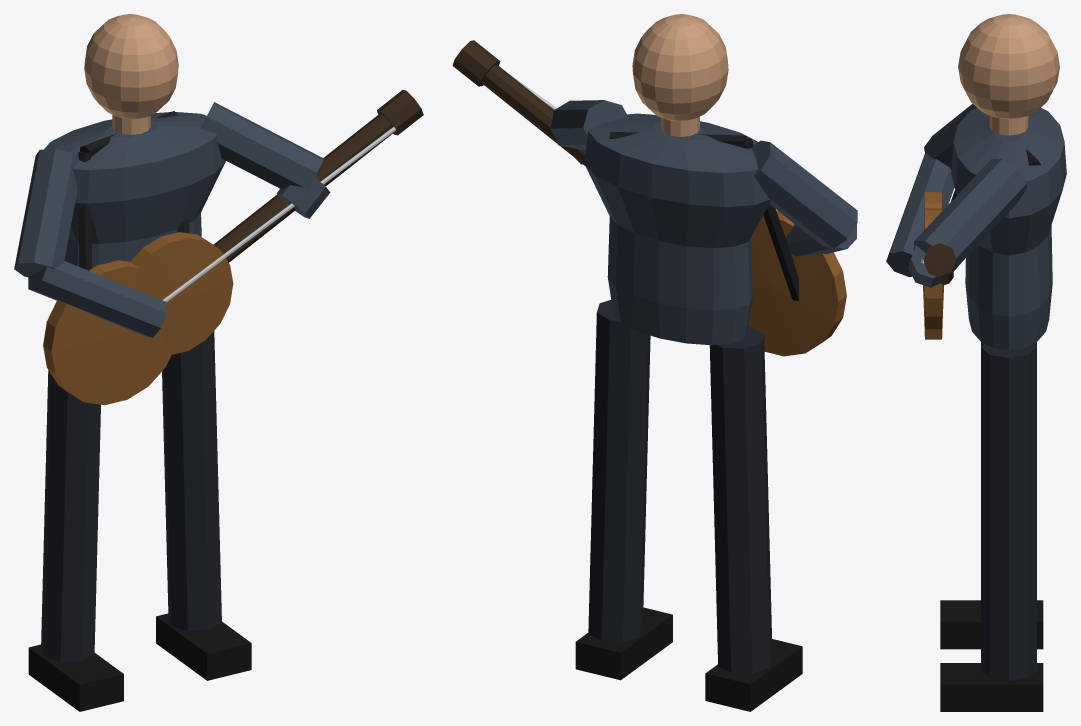
The model's file is figure-guitarist.glb.
The picture shows the model from 3 angles, left to right: view 1: azimuth 30°, elevation 25°; view 2: azimuth 150°, elevation 25°; view 3: azimuth 270°, elevation 25°; orthographic projection.
Parts seen in each view (by area): view 1: figure-legs, guitar-body, figure-sleeves, figure-torso, figure-skin, figure-shoes, guitar-neck, guitar-strap, guitar-strings; view 2: figure-legs, figure-torso, figure-sleeves, figure-skin, guitar-body, figure-shoes, guitar-neck, guitar-strap; view 3: figure-legs, figure-torso, figure-sleeves, figure-skin, figure-shoes, guitar-body, guitar-neck.
Boxes of the visible parts, x1,y1,x2,y2 form: figure-legs: [41, 331, 221, 661]; guitar-body: [43, 232, 233, 405]; figure-sleeves: [14, 102, 330, 337]; figure-torso: [44, 112, 225, 268]; figure-skin: [84, 14, 178, 134]; figure-shoes: [28, 613, 251, 711]; guitar-neck: [213, 90, 423, 262]; guitar-strap: [78, 111, 189, 270]; guitar-strings: [162, 127, 395, 302]; figure-legs: [588, 300, 772, 673]; figure-torso: [584, 113, 770, 345]; figure-sleeves: [550, 100, 857, 256]; figure-skin: [632, 14, 728, 136]; guitar-body: [748, 210, 846, 356]; figure-shoes: [575, 607, 802, 711]; guitar-neck: [452, 40, 585, 165]; guitar-strap: [609, 131, 799, 301]; figure-legs: [981, 342, 1036, 680]; figure-torso: [951, 108, 1066, 350]; figure-sleeves: [886, 103, 1027, 287]; figure-skin: [958, 14, 1059, 135]; figure-shoes: [940, 600, 1043, 711]; guitar-body: [923, 191, 943, 339]; guitar-neck: [923, 243, 956, 285].
Bounding box in the file's own units: 1.08 × 1.68 × 0.4212.
